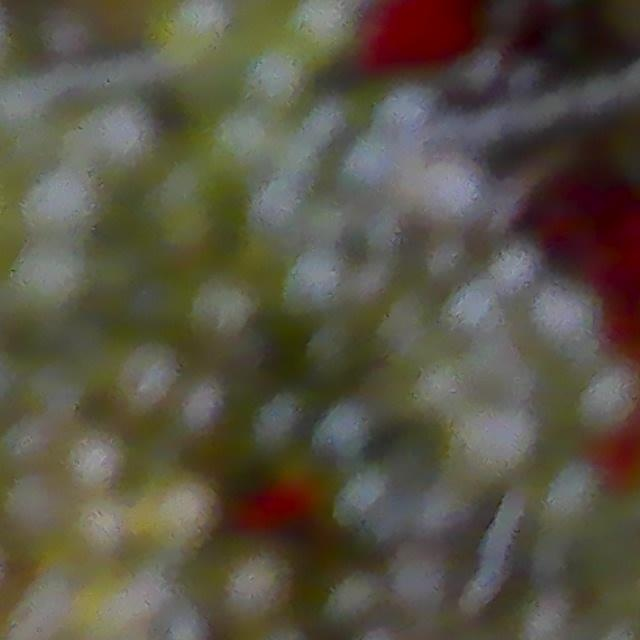SeaGrape: (12, 240, 87, 315), (184, 273, 260, 347), (106, 347, 176, 420), (213, 552, 288, 617), (61, 424, 129, 493), (278, 246, 345, 316), (395, 543, 443, 619), (520, 594, 578, 640), (323, 570, 369, 624)
